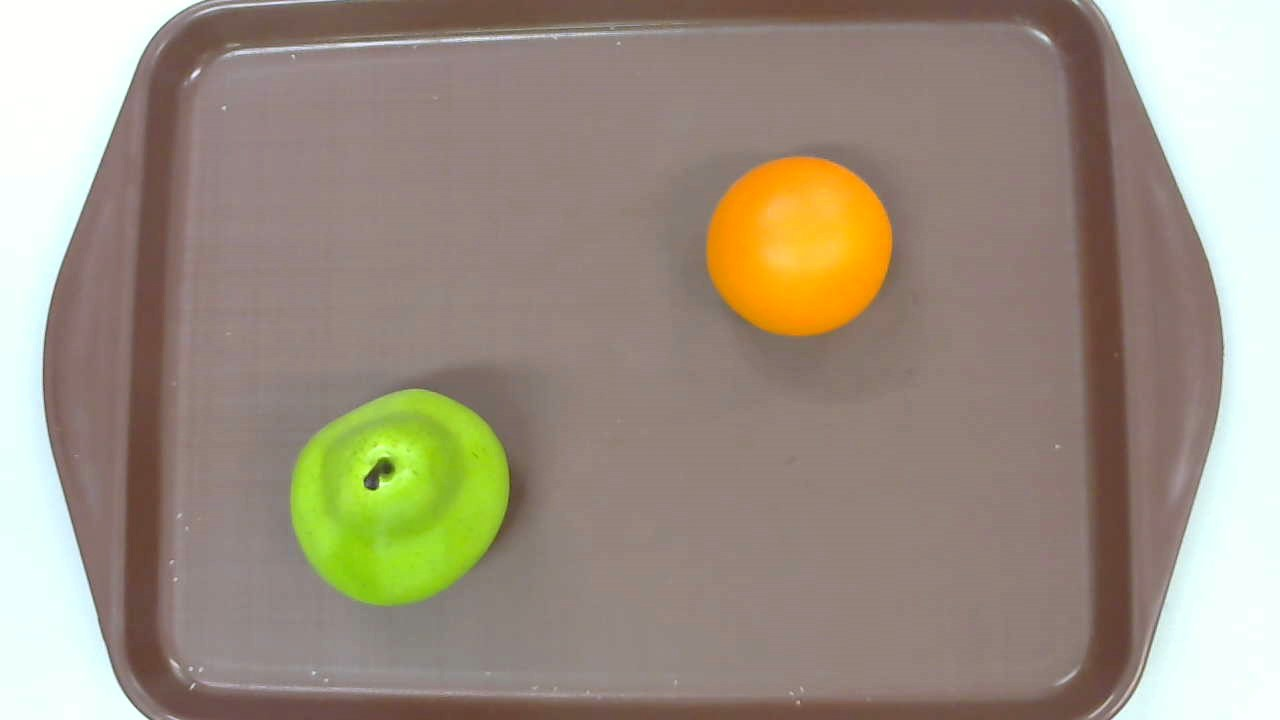bun: (707, 155, 892, 337)
green pear: (291, 388, 510, 605)
